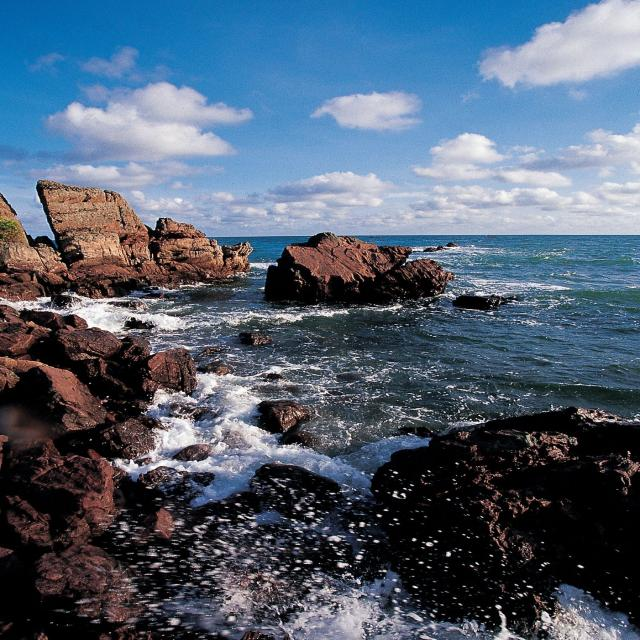reef: (72, 372, 434, 640), (23, 202, 441, 342)
